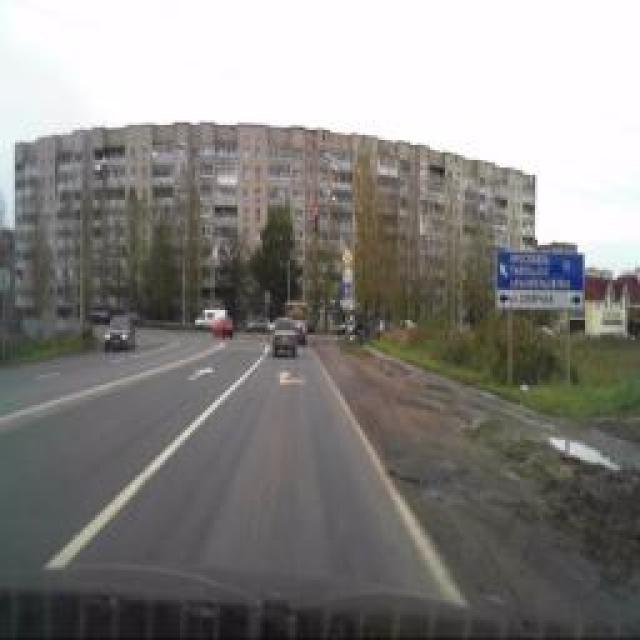sign: (341, 284, 351, 298)
